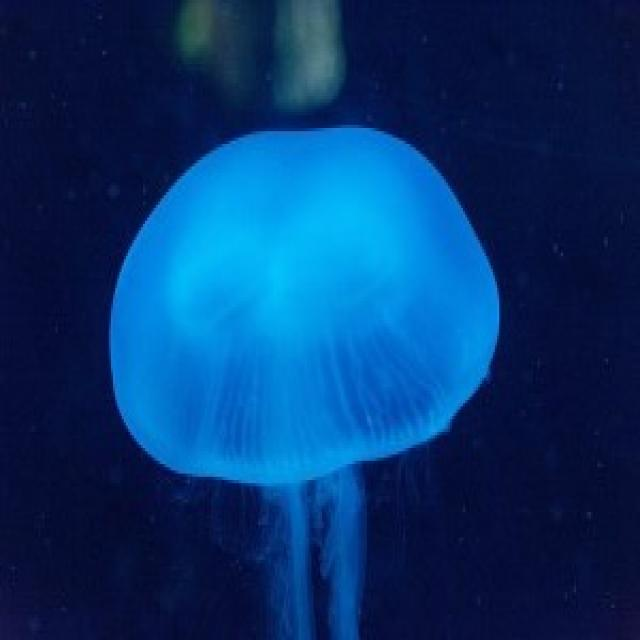Jellyfish: (102, 124, 504, 640)
